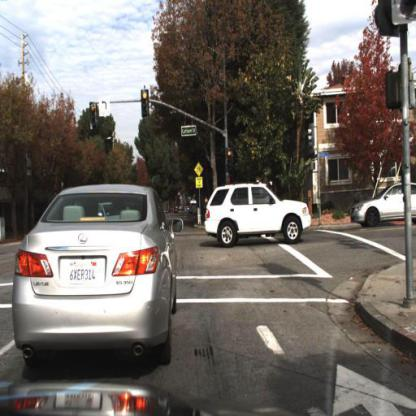car: (13, 186, 178, 363), (204, 184, 312, 246), (350, 182, 416, 234)
trafficLight-Red: (142, 87, 151, 123), (225, 148, 234, 174)
trafficLight-RedLeft: (90, 100, 100, 133)
